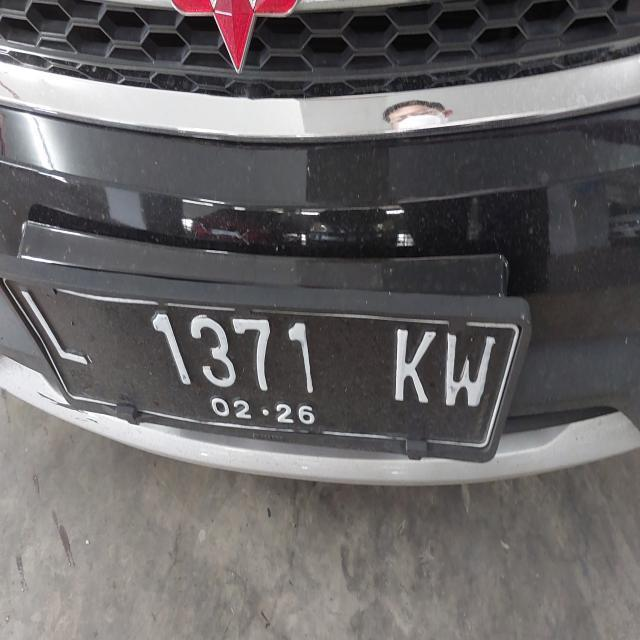1: (282, 322, 324, 408), (148, 310, 190, 390)
3: (188, 313, 238, 390)
7: (229, 315, 277, 402)
K: (390, 308, 442, 425)
L: (21, 270, 103, 393)
W: (439, 306, 501, 428)
